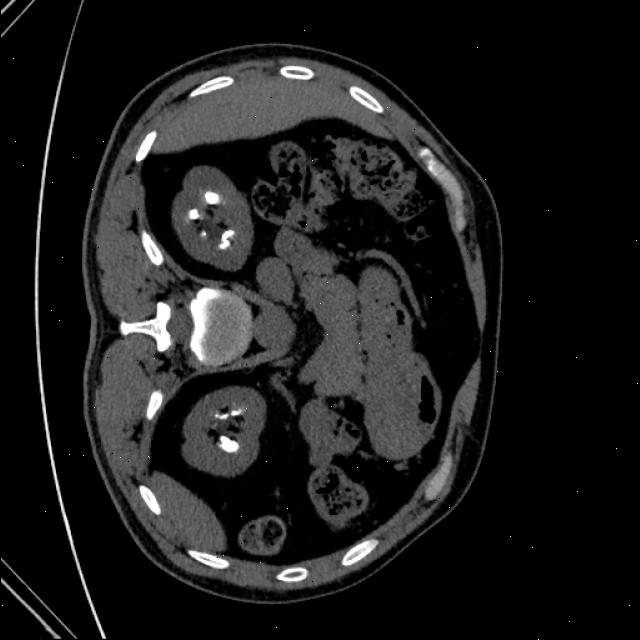kidneystone: (186, 190, 220, 222), (217, 435, 238, 446), (222, 231, 232, 248)
